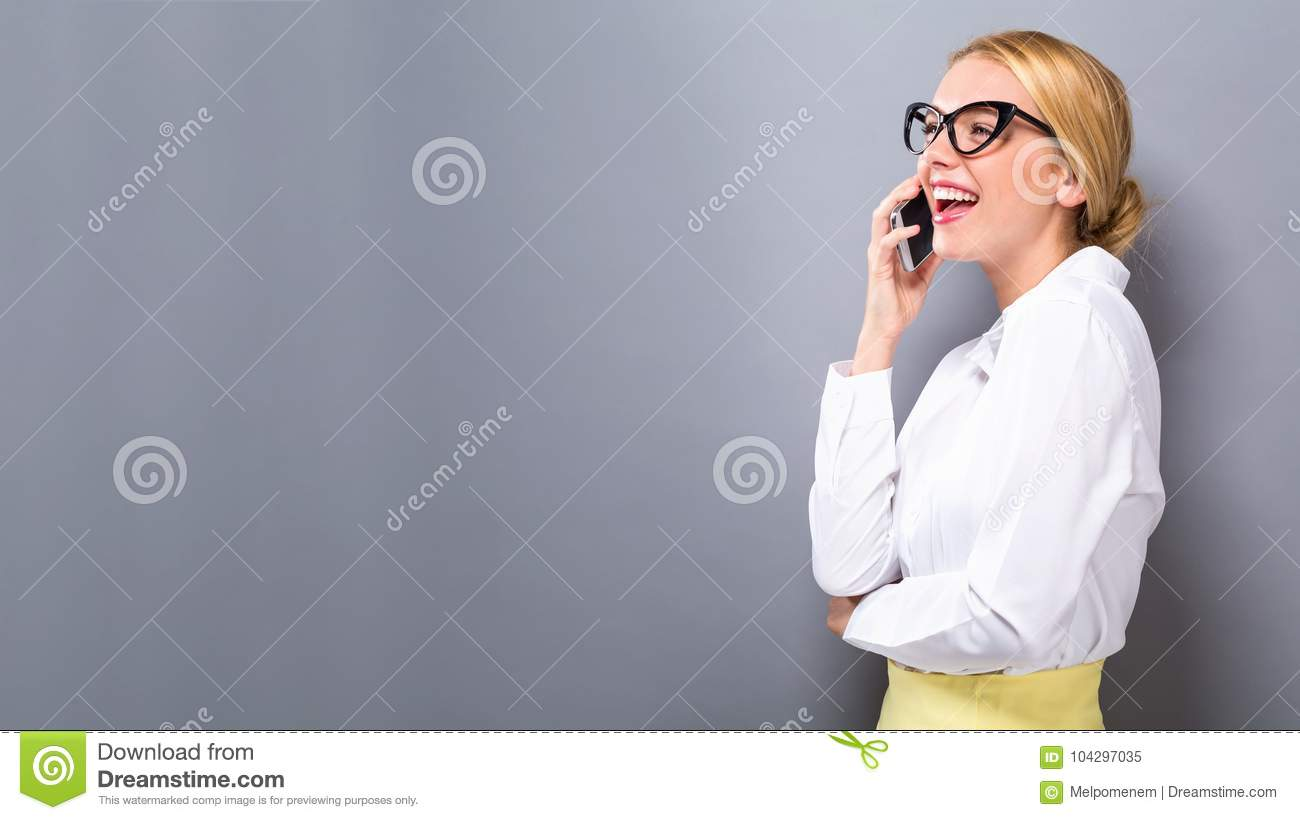phone: (891, 185, 937, 274)
talk: (860, 95, 1010, 344)
